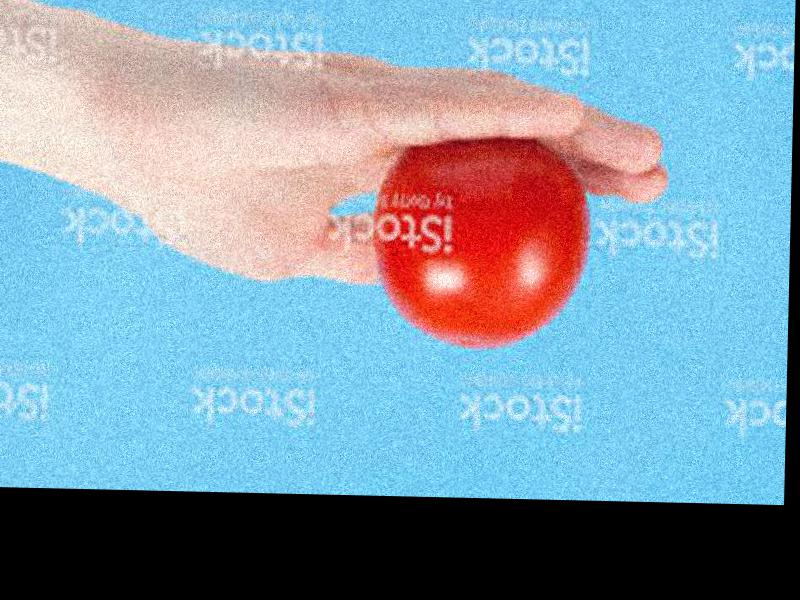Tomato: (374, 137, 591, 345)
